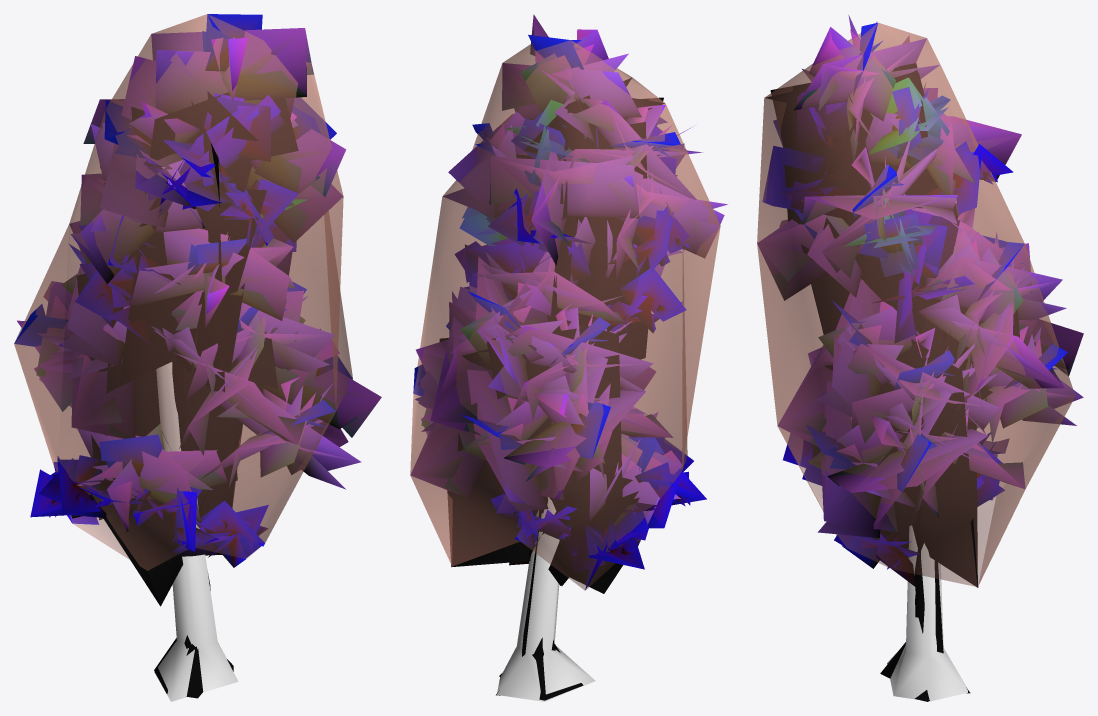
File: tree_oak_sml_b.dae
3 views of the same model, side by side, from view 1: azimuth 30°, elevation 25°; view 2: azimuth 150°, elevation 25°; view 3: azimuth 270°, elevation 25° (orthographic). The views are drawn at different scales.
Visible parts, largest first — view 1: Colmesh_small_02-1, OakSmall02_a1300, OakSmall02_a450; view 2: Colmesh_small_02-1, OakSmall02_a1300, OakSmall02_a450; view 3: Colmesh_small_02-1, OakSmall02_a1300, OakSmall02_a450.
Boxes of the visible parts, <box> form: Colmesh_small_02-1: <box>14,14,352,701</box>; OakSmall02_a1300: <box>17,14,380,697</box>; OakSmall02_a450: <box>14,15,381,698</box>; Colmesh_small_02-1: <box>410,40,720,701</box>; OakSmall02_a1300: <box>411,14,727,700</box>; OakSmall02_a450: <box>411,19,724,700</box>; Colmesh_small_02-1: <box>757,22,1075,701</box>; OakSmall02_a1300: <box>757,15,1083,700</box>; OakSmall02_a450: <box>757,21,1083,701</box>.
Size of the model in its own units: 4.44 by 4.22 by 9.36.
